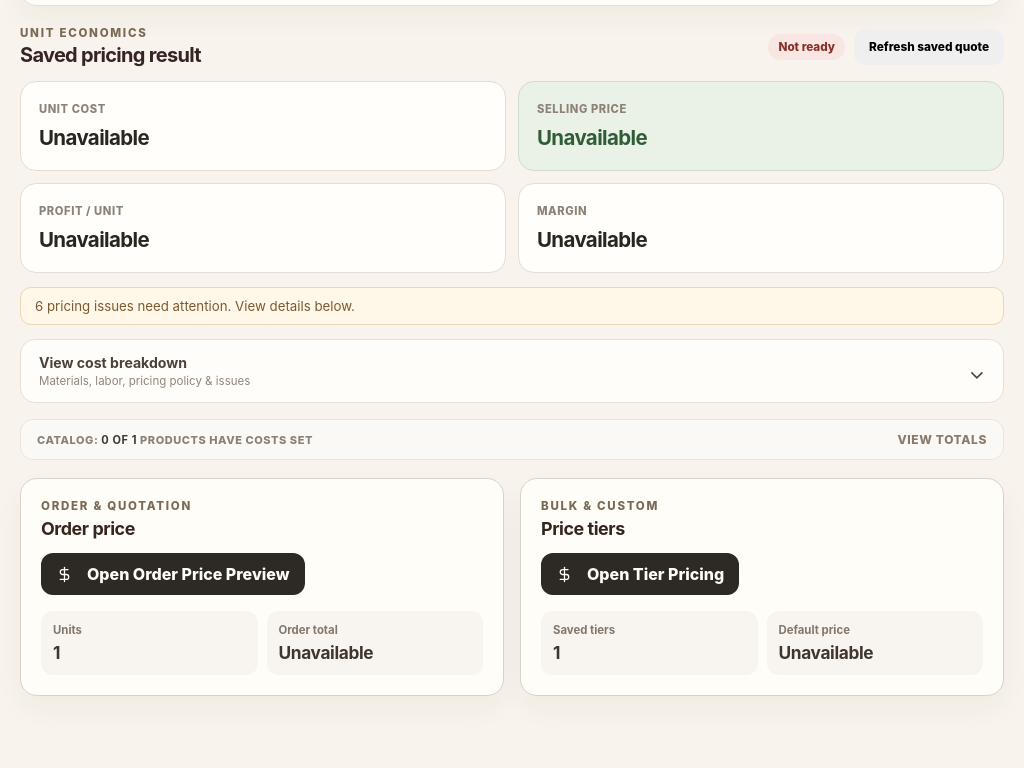
it: Pricing workspace UI/UX › loads Default / Single and tier alternatives through the TP7 integrated quote boundary
(page scrolled)
Expected: the element named "Tier pricing summary" shows "1", [553,642,560,663]
Click the button "Open Tier Pricing". click: {"x": 640, "y": 574}
box: [541,553,739,595]
(page scrolled)
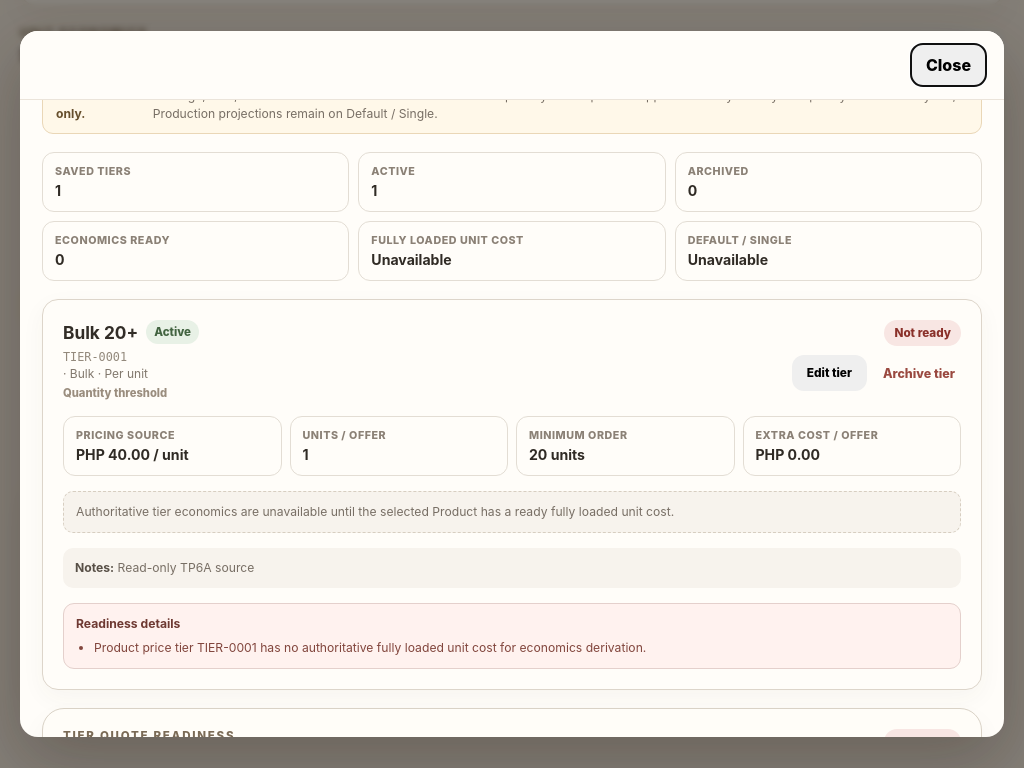
Expected: the element named "Tier pricing catalog" is shown
Expected: the element named "Tier pricing catalog" shows "Bulk 20+", [63,322,138,343]
Expected: the element named "Tier pricing catalog" shows "Edit tier", [792,355,867,391]
